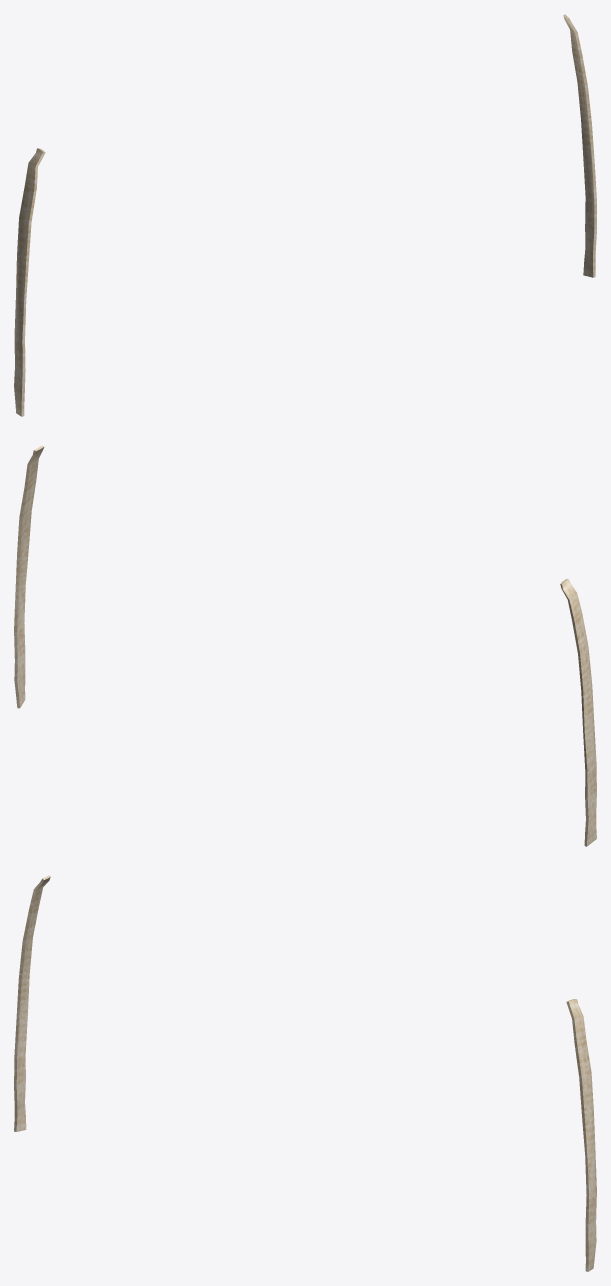
The model's file is pocket_seam.glb.
3 views of the same model, one above another, from view 1: azimuth 30°, elevation 25°; view 2: azimuth 150°, elevation 25°; view 3: azimuth 330°, elevation 25° (orthographic).
Parts seen in each view (by area): view 1: pocket_seam1; view 2: pocket_seam1; view 3: pocket_seam1.
Boxes of the visible parts, <box> form: pocket_seam1: <box>14,14,596,416</box>; pocket_seam1: <box>14,445,596,846</box>; pocket_seam1: <box>14,875,596,1271</box>.
Size of the model in its own units: 0.05 by 0.0219 by 0.00164.
1 material, 1 textured.
